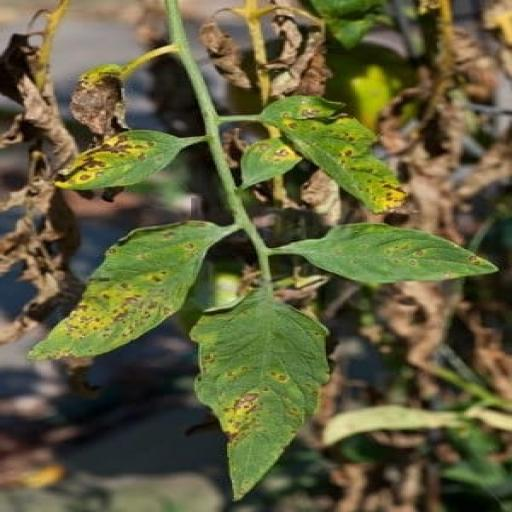disease_tomato: (188, 288, 331, 503), (28, 217, 220, 360), (257, 92, 411, 216), (294, 222, 500, 289), (50, 129, 177, 191), (239, 134, 302, 186)
